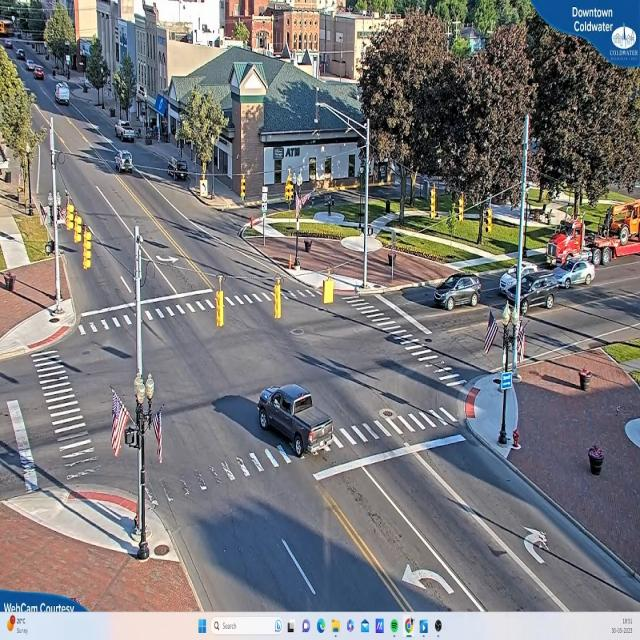car: (258, 384, 334, 460), (500, 269, 557, 311), (435, 275, 482, 313), (550, 258, 596, 290), (117, 121, 137, 145), (54, 85, 70, 105), (32, 66, 44, 79)
